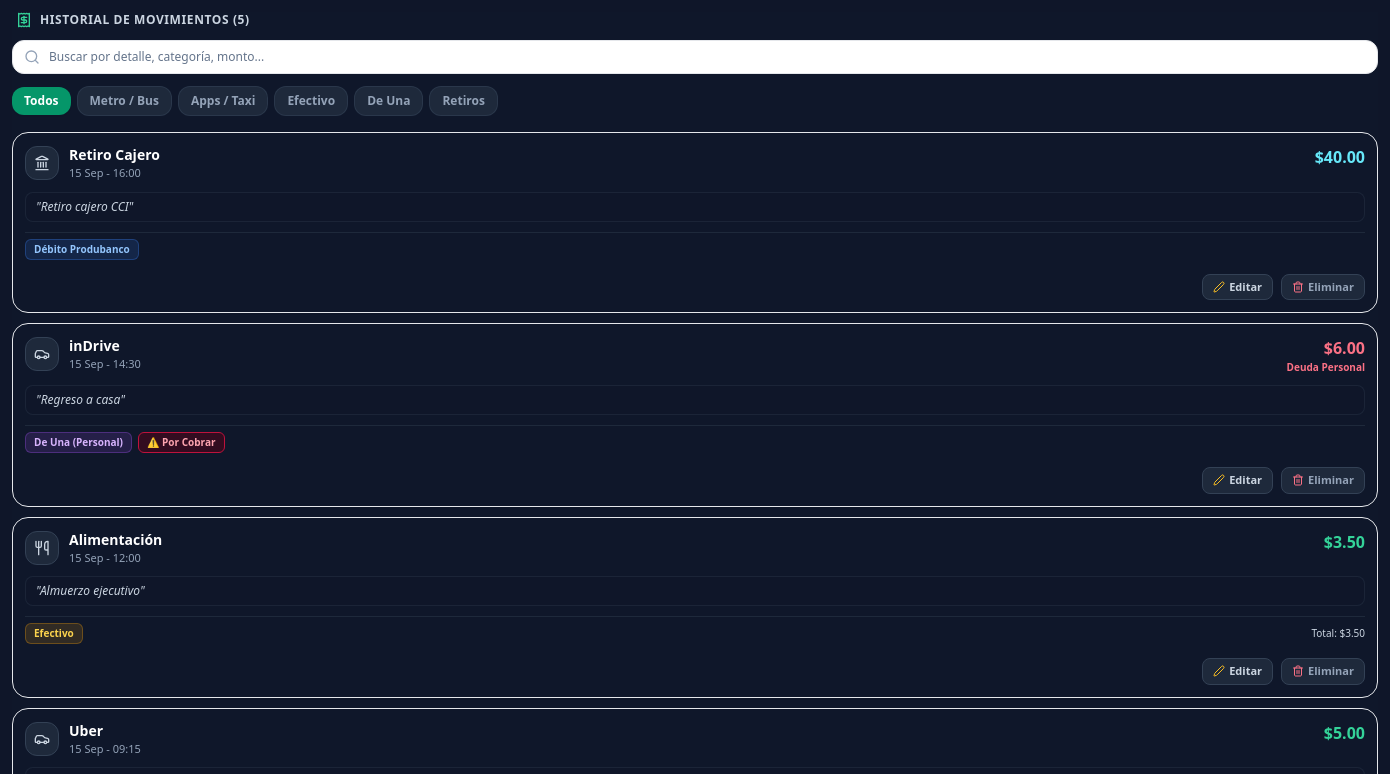
Scenario: TransactionHistory › filters movements dynamically using the search input
Type "Cumbayá" into the field named "Buscar movimientos".
click(695, 57); type("Cumbayá")  # box [12, 40, 1378, 74]
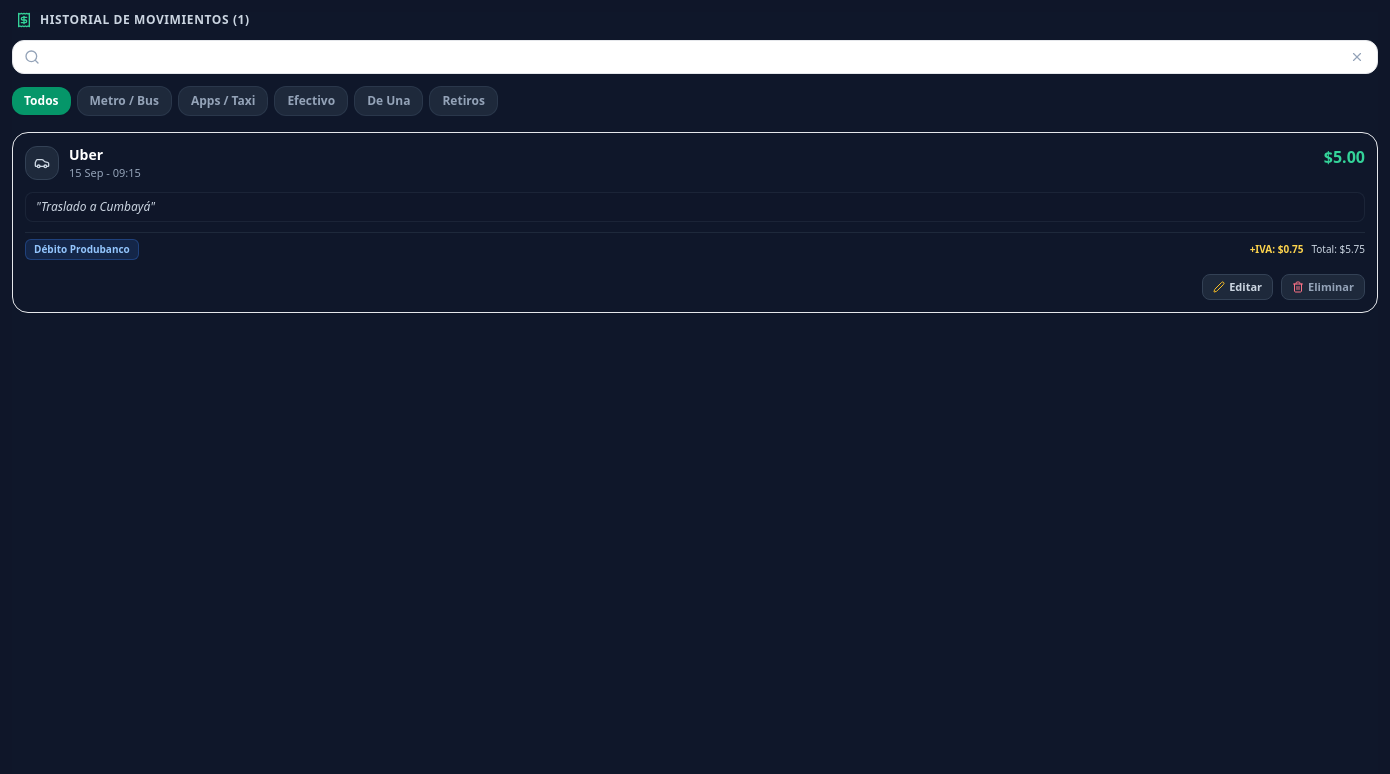
Check: the text "Uber" is shown, box [69, 145, 103, 165]
Check: the heading "Historial de Movimientos (1)" is shown, box [40, 12, 250, 28]
# Clear search
Click the button named "Limpiar búsqueda".
click(1357, 57)  # box [1346, 46, 1368, 68]
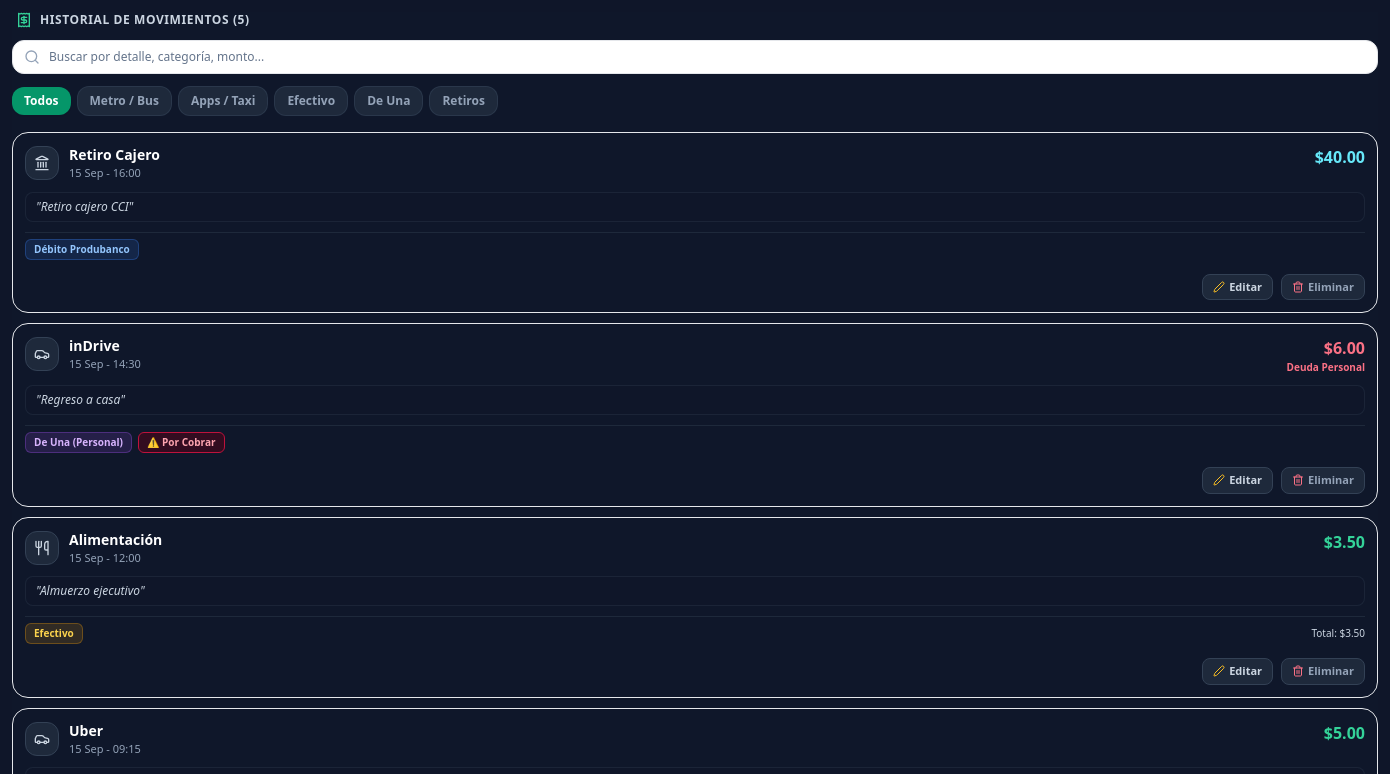
Check: the heading "Historial de Movimientos (5)" is shown, box [40, 12, 250, 28]
